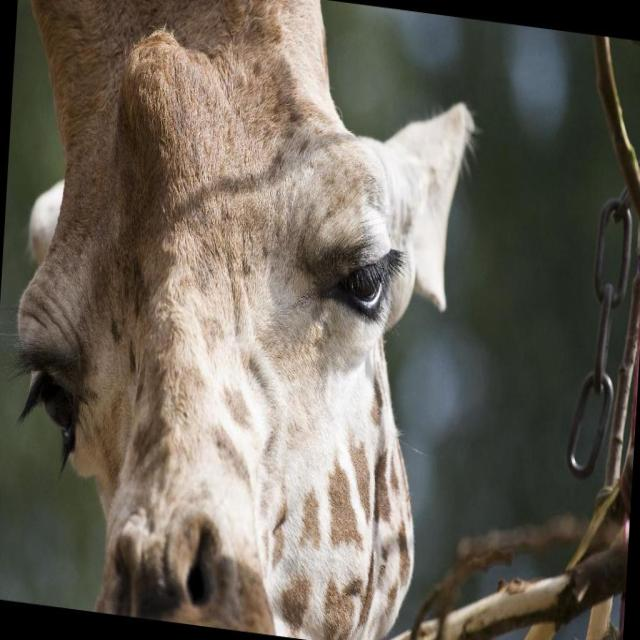Giraffe: (19, 0, 458, 629)
